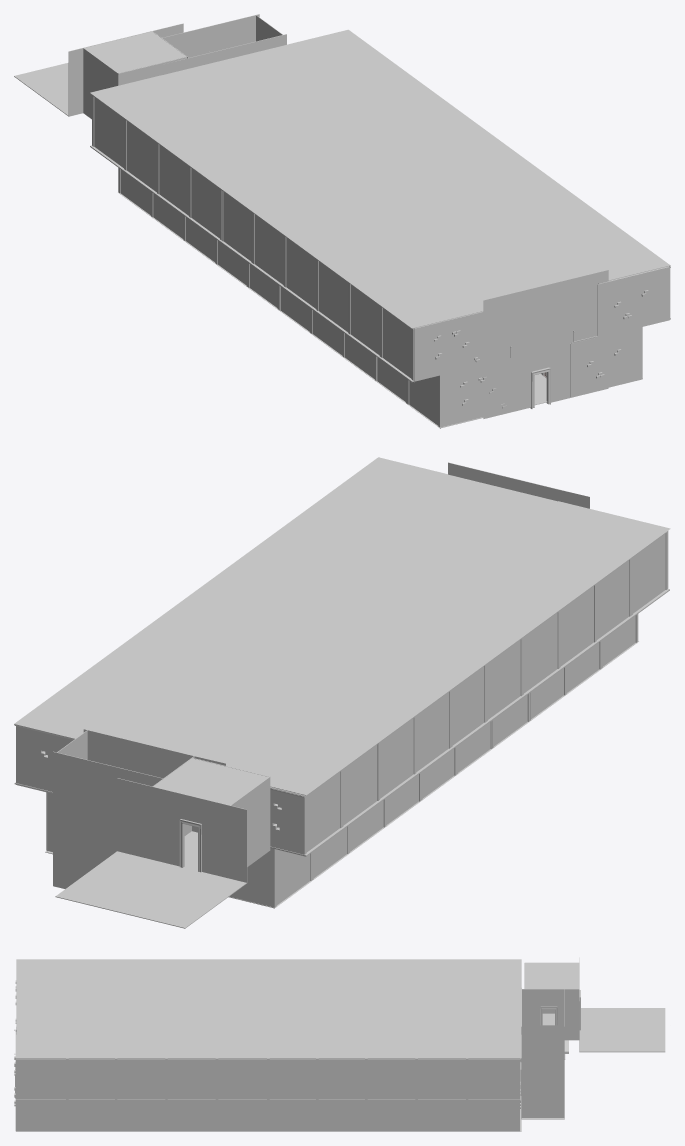
Rendered from Control Room + level 3 (It1).fbx.
3 views of the same model, one above another, from view 1: azimuth 30°, elevation 25°; view 2: azimuth 150°, elevation 25°; view 3: azimuth 270°, elevation 25° (orthographic). The views are drawn at different scales.
Parts seen in each view (by area): view 1: Plane.177, Plane.179, Plane.154, Plane.175, Plane.103, Plane.147, Plane.001, Plane.006, Plane.168, Plane.164, Plane.004, Plane.176 (+23 smaller); view 2: Plane.177, Plane.002, Plane.004, Plane.006, Plane.001, Plane.011, Plane.178, Plane.180, Plane.117, Plane.124, Plane.005, Plane.136 (+21 smaller); view 3: Plane.177, Plane.012, Plane.004, Plane.020, Plane.003, Plane.101, Plane.085, Plane.093, Plane.037, Plane.076, Plane.065, Plane.029 (+16 smaller).
Boxes of the visible parts, x1=… form: Plane.177: x1=90, y1=29, x2=670, y2=328; Plane.179: x1=483, y1=269, x2=608, y2=418; Plane.154: x1=570, y1=326, x2=642, y2=396; Plane.175: x1=411, y1=311, x2=483, y2=381; Plane.103: x1=597, y1=267, x2=669, y2=337; Plane.147: x1=438, y1=364, x2=506, y2=427; Plane.001: x1=84, y1=31, x2=186, y2=74; Plane.006: x1=162, y1=14, x2=259, y2=57; Plane.168: x1=318, y1=261, x2=348, y2=332; Plane.164: x1=286, y1=237, x2=316, y2=308; Plane.004: x1=14, y1=62, x2=68, y2=116; Plane.176: x1=383, y1=308, x2=414, y2=382; Plane.177: x1=14, y1=457, x2=670, y2=795; Plane.002: x1=117, y1=778, x2=247, y2=882; Plane.004: x1=55, y1=851, x2=246, y2=928; Plane.006: x1=53, y1=751, x2=162, y2=888; Plane.001: x1=153, y1=758, x2=268, y2=805; Plane.011: x1=83, y1=729, x2=225, y2=778; Plane.178: x1=16, y1=726, x2=73, y2=793; Plane.180: x1=270, y1=787, x2=306, y2=854; Plane.117: x1=303, y1=772, x2=340, y2=856; Plane.124: x1=343, y1=745, x2=377, y2=824; Plane.005: x1=230, y1=777, x2=270, y2=866; Plane.136: x1=380, y1=718, x2=413, y2=798; Plane.177: x1=16, y1=959, x2=521, y2=1058; Plane.012: x1=522, y1=1025, x2=564, y2=1117; Plane.004: x1=579, y1=1008, x2=665, y2=1052; Plane.020: x1=467, y1=1058, x2=519, y2=1100; Plane.003: x1=522, y1=989, x2=579, y2=1039; Plane.101: x1=15, y1=1058, x2=65, y2=1100; Plane.085: x1=115, y1=1058, x2=167, y2=1100; Plane.093: x1=64, y1=1058, x2=117, y2=1100; Plane.037: x1=365, y1=1058, x2=418, y2=1100; Plane.076: x1=165, y1=1058, x2=218, y2=1100; Plane.065: x1=217, y1=1058, x2=269, y2=1100; Plane.029: x1=416, y1=1058, x2=468, y2=1100.
Bounding box in the file's own units: 1520 × 674 × 4261.
